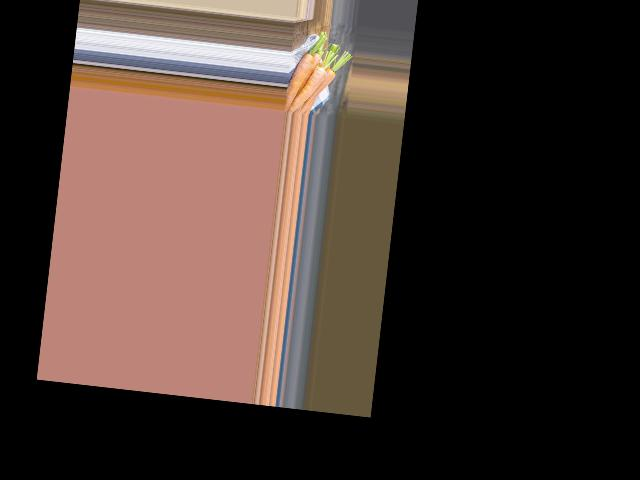carrot: (283, 43, 315, 114)
